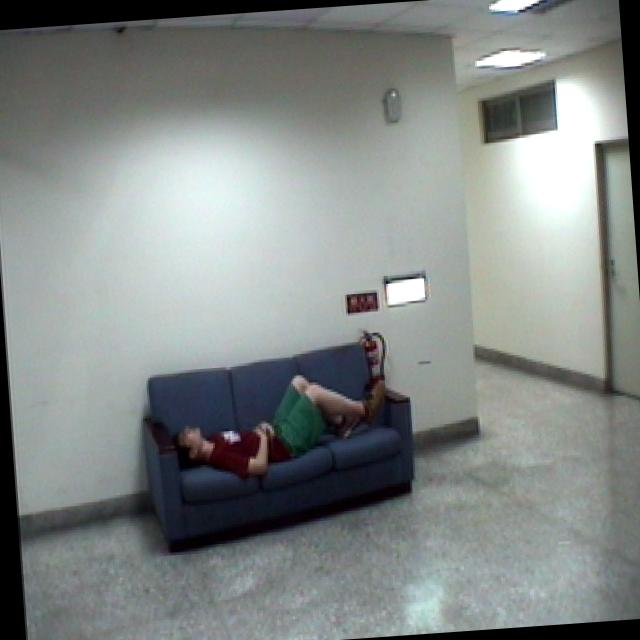lie: (154, 364, 398, 490)
